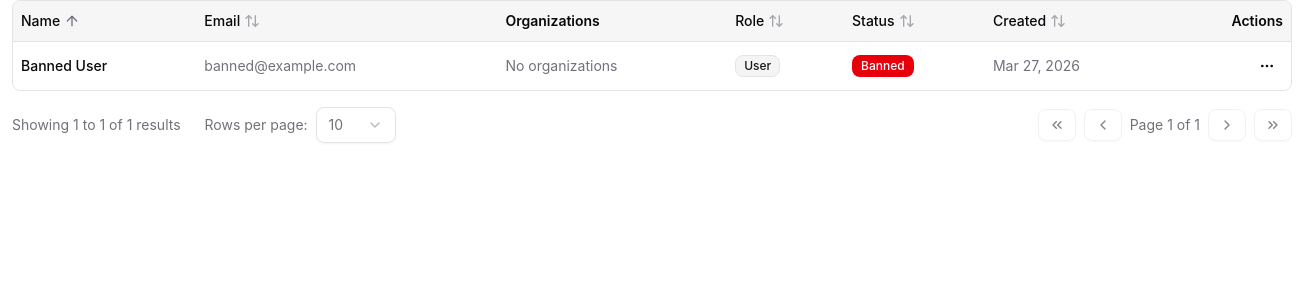
Test: UserTable › shows unban instead of ban for banned users
Click the button named "More actions" in the row of "Banned User" at (1267, 66), box [1251,50,1283,82]
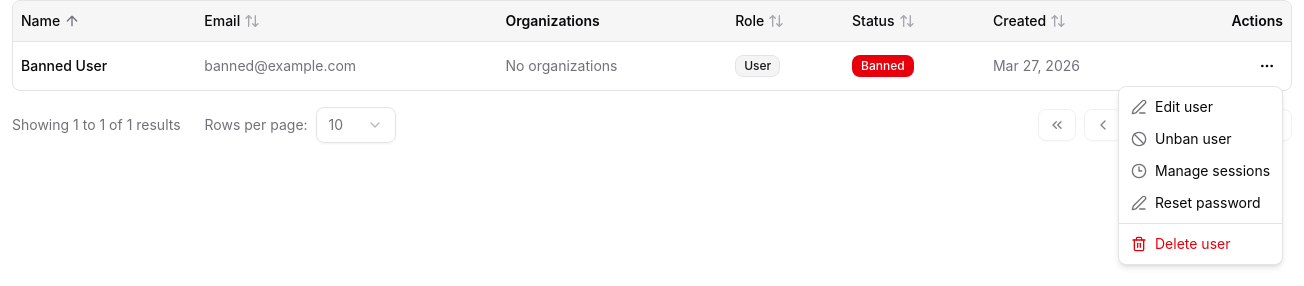
expect the menu item "Unban user" is shown: met, box [1131,130,1232,147]
